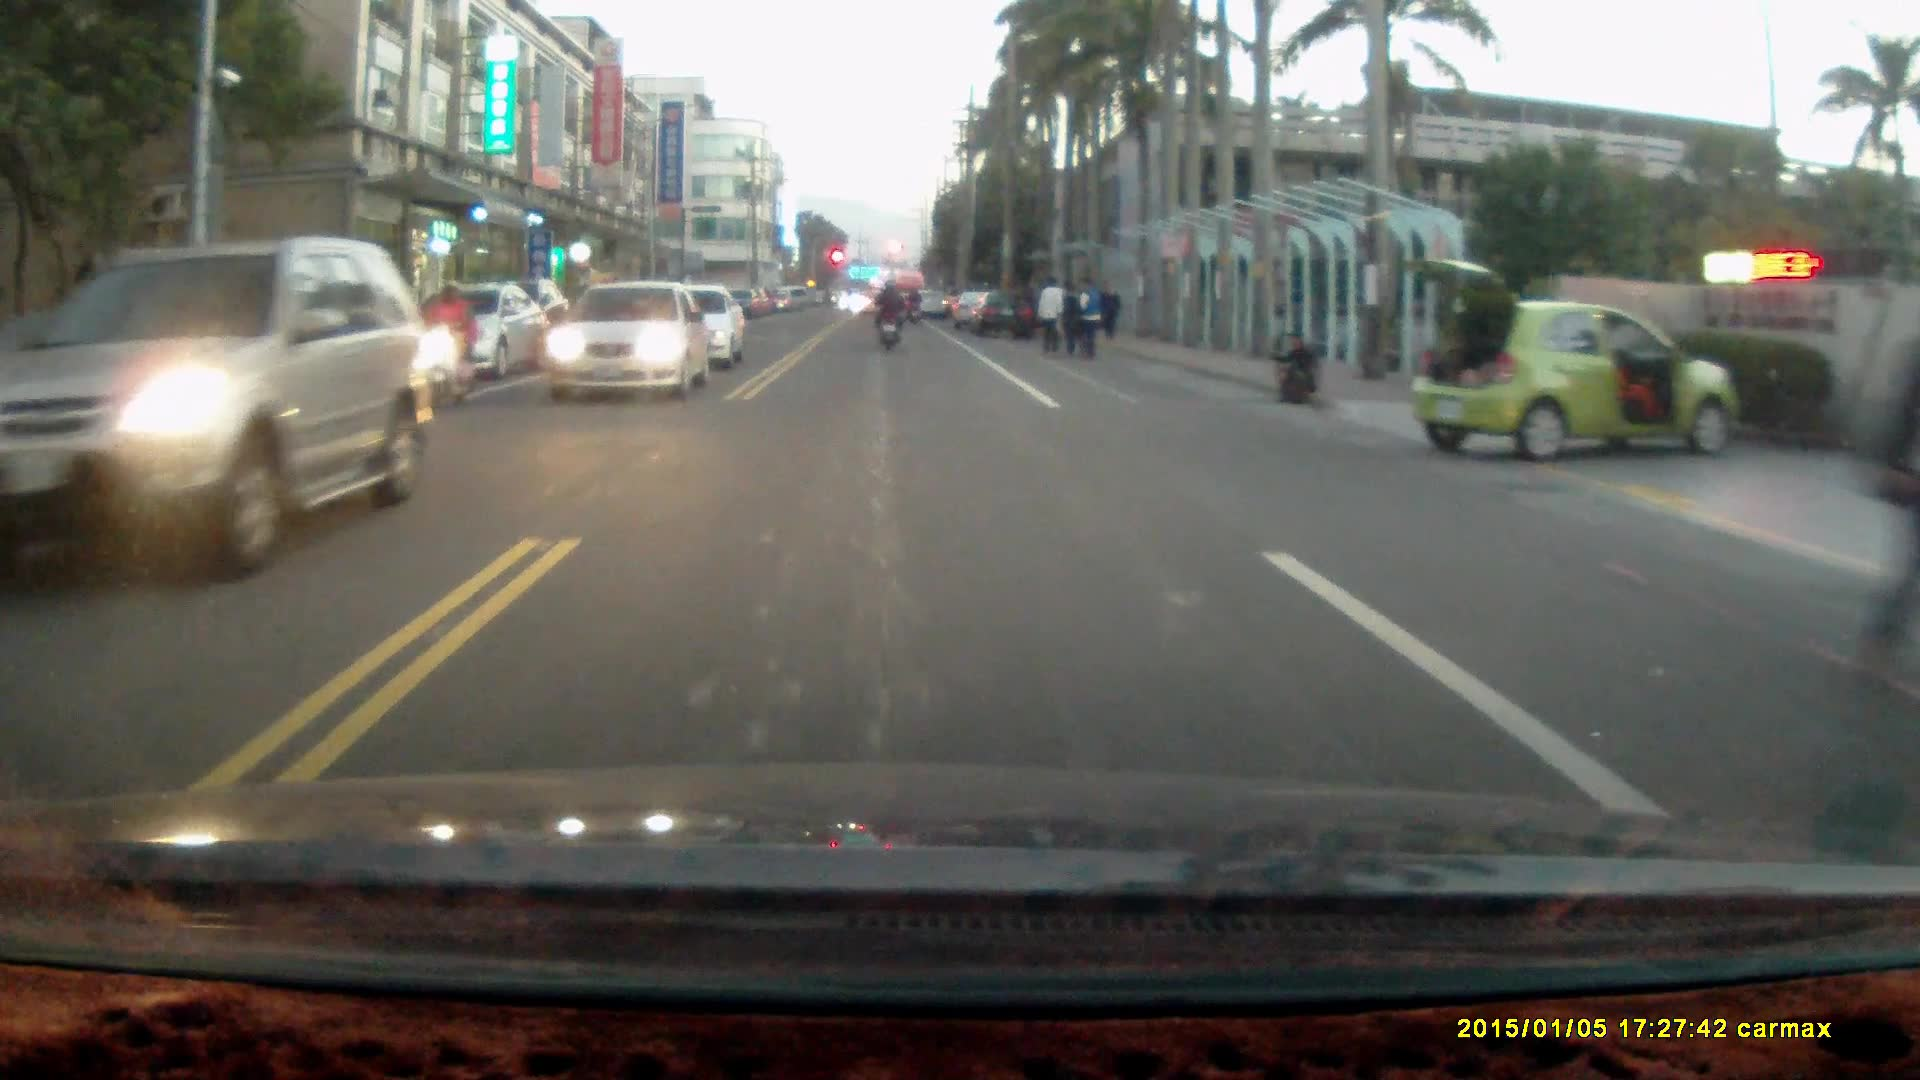pedestrian: (1270, 329, 1322, 408), (1067, 275, 1104, 361), (1035, 274, 1063, 360), (1055, 281, 1083, 363), (1097, 278, 1120, 338)
rider: (422, 279, 480, 414), (870, 277, 905, 355)
vehicle: (3, 236, 427, 587), (1403, 259, 1744, 464), (540, 281, 709, 413), (431, 286, 546, 393), (644, 284, 747, 374), (966, 291, 1037, 340)
